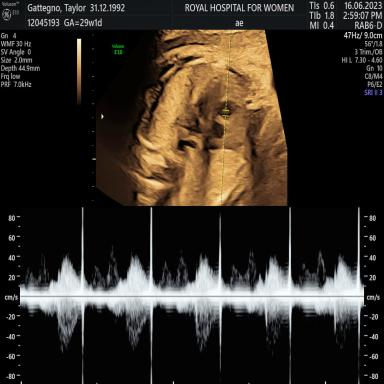Ultrasound-Waves: (23, 210, 362, 381)
